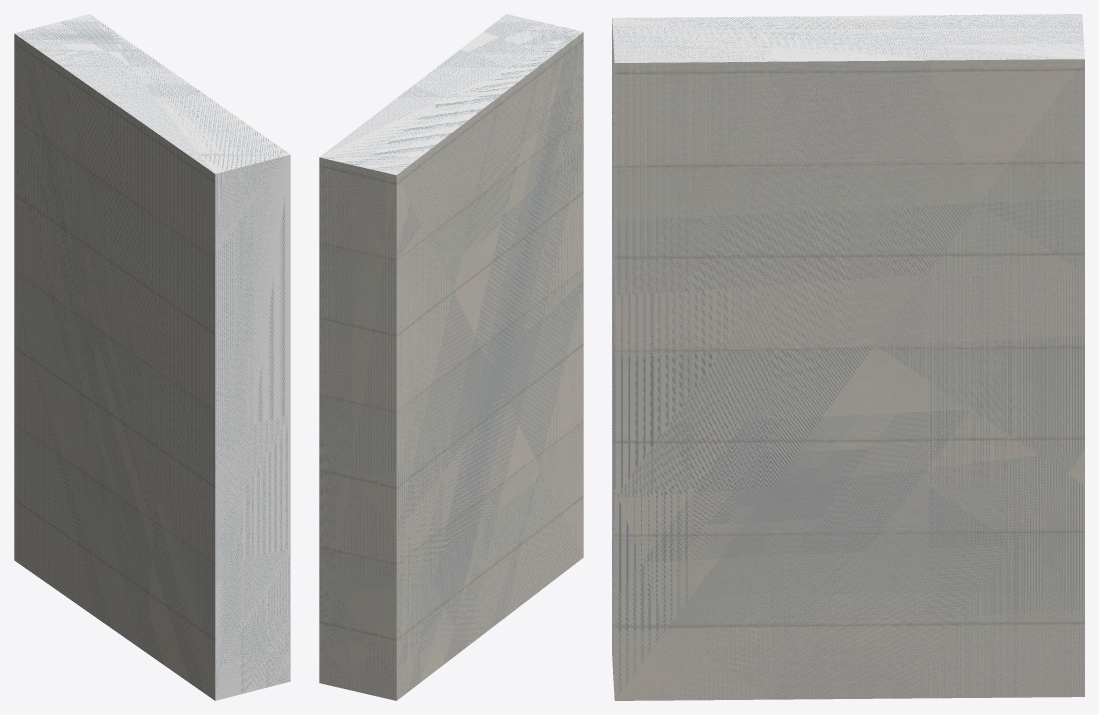
The model's file is 水立方28.dae.
3 renders of one model, left to right at view 1: azimuth 30°, elevation 25°; view 2: azimuth 150°, elevation 25°; view 3: azimuth 270°, elevation 25°, orthographic. The views are drawn at different scales.
Visible parts, largest first — view 1: Component_2 (×2); view 2: Component_2 (×2); view 3: Component_2 (×2).
Part boxes in pixels (x1,y1,x2,y2): Component_2 (×2): [14, 14, 290, 700]; Component_2 (×2): [319, 14, 583, 700]; Component_2 (×2): [612, 14, 1084, 700].
Size of the model in its own units: 27.79 by 113 by 168.
3 materials, 1 textured.
